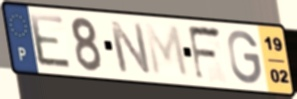8: (69, 15, 104, 74)
E: (27, 12, 75, 72)
F: (186, 24, 224, 84)
G: (226, 29, 264, 87)
M: (142, 22, 192, 81)
N: (106, 19, 154, 77)
